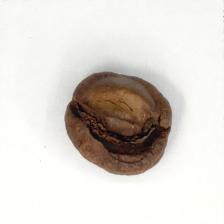NG: (69, 95, 173, 167)
